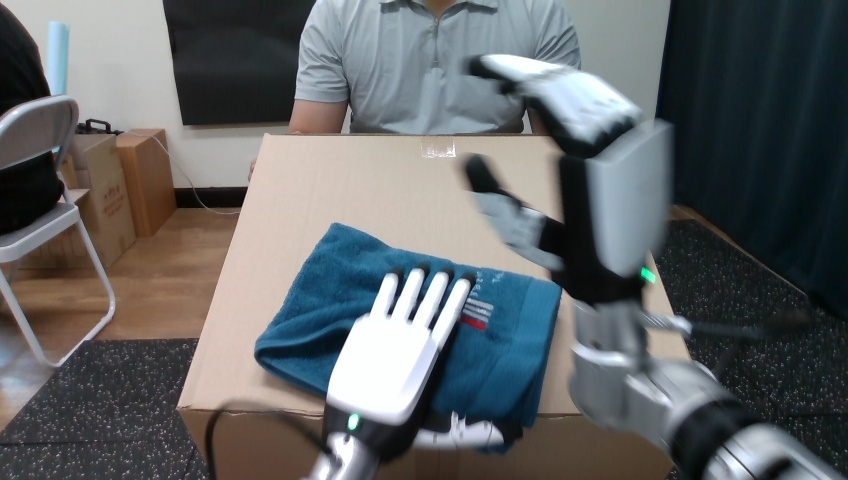left robot hand: (465, 54, 840, 479)
